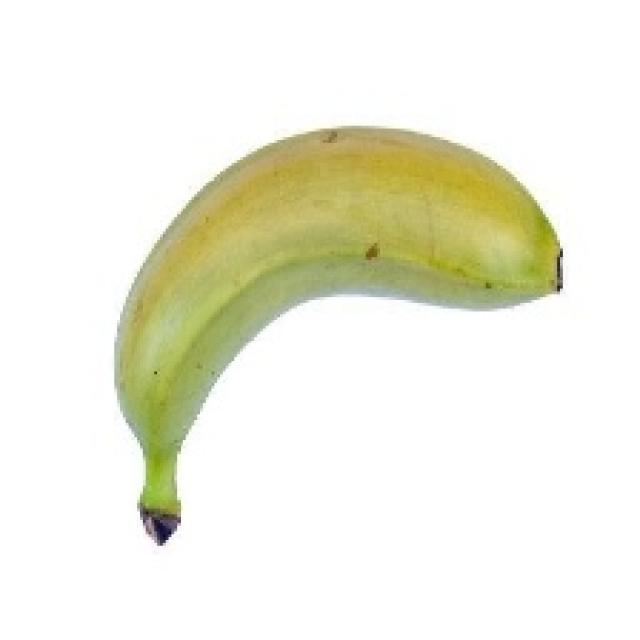Banana: (111, 123, 563, 546)
